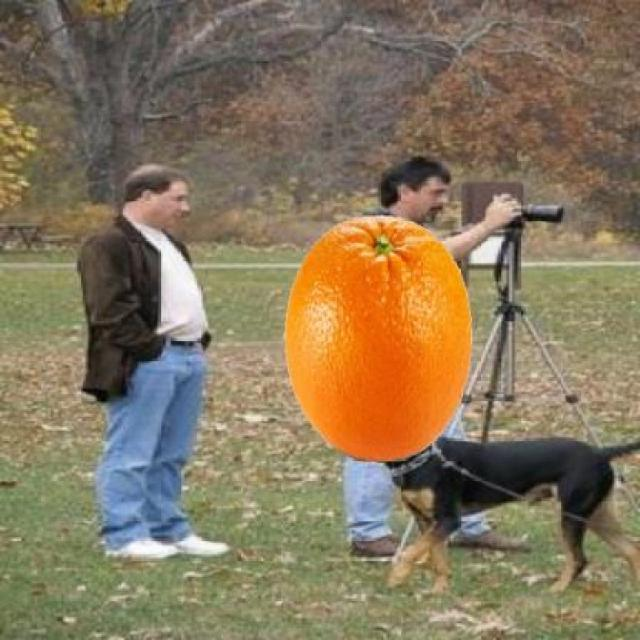Orange: (281, 213, 474, 462)
